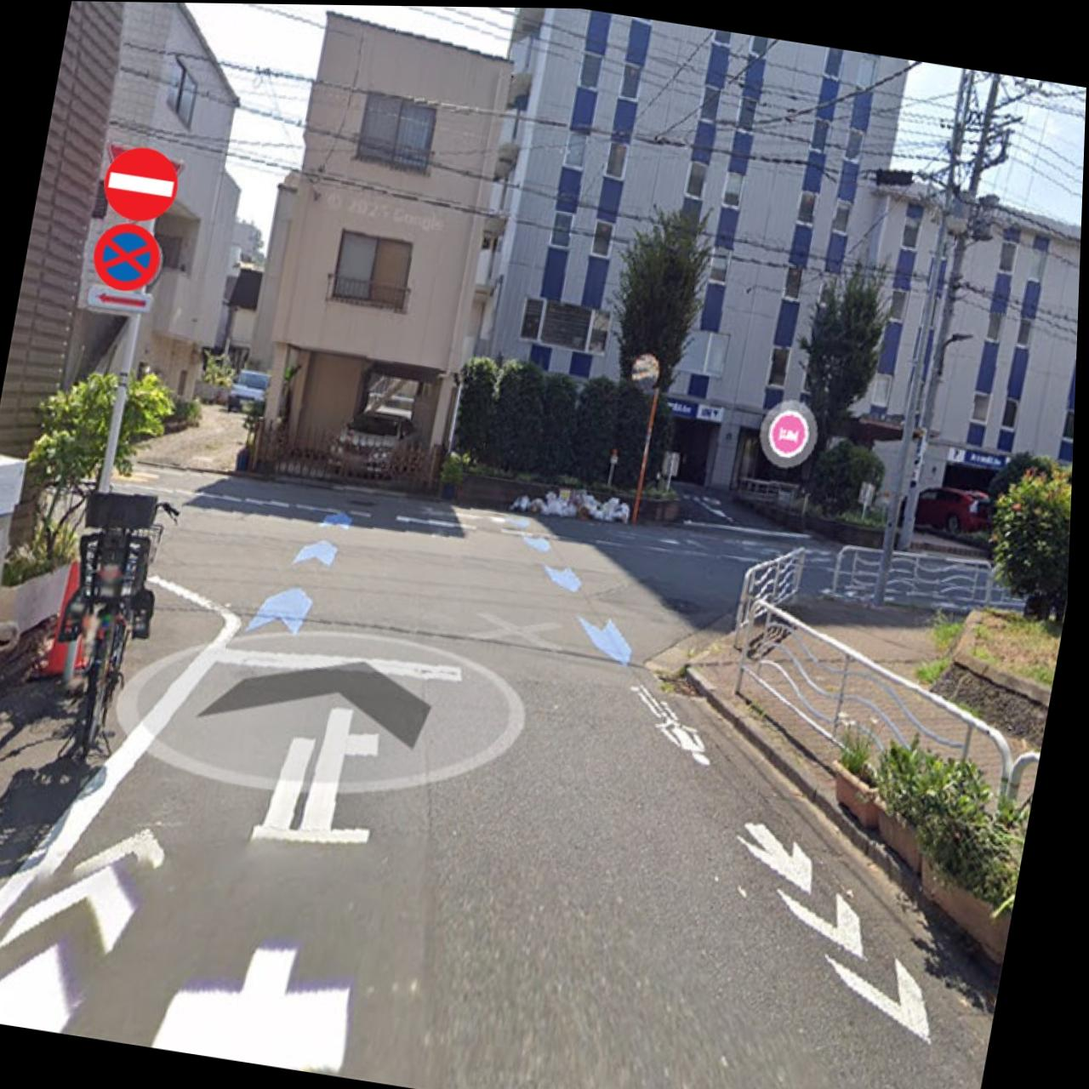barrier: (93, 138, 188, 226)
stop_sign: (84, 223, 169, 300)
